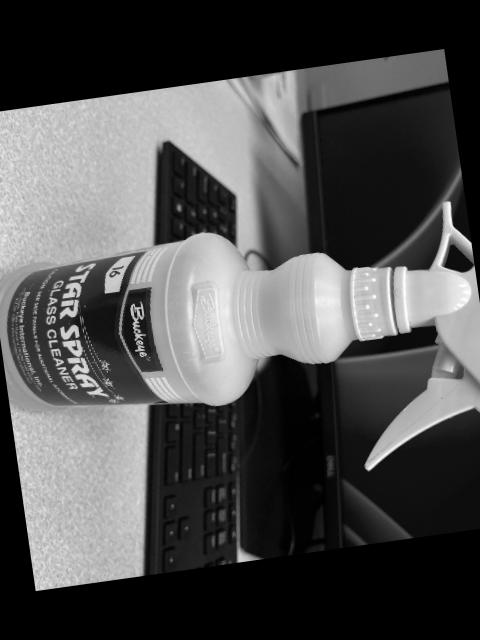StarSpray: (0, 199, 480, 469)
